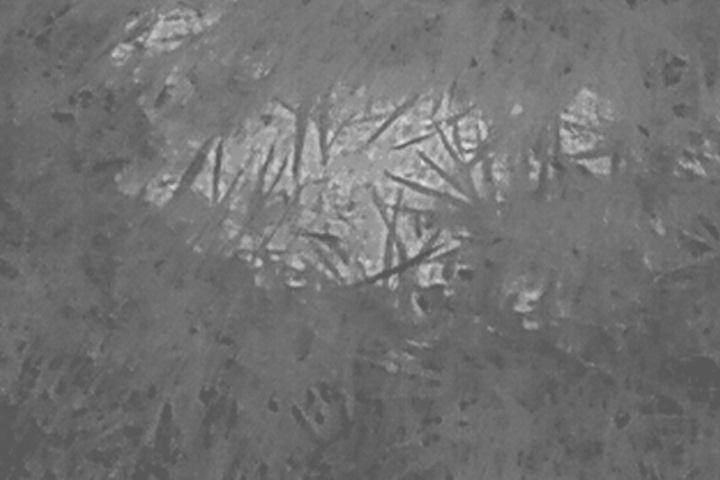landmine: (110, 0, 621, 327)
